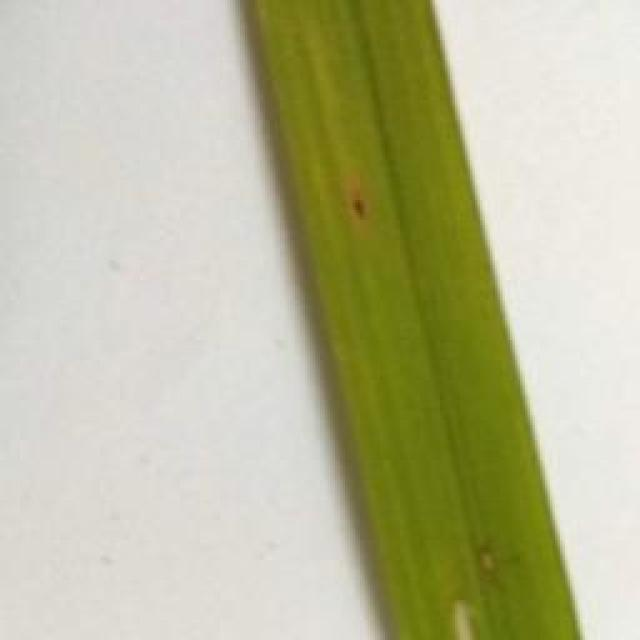Brown_Spot: (341, 179, 376, 226)
Rice_Blast: (434, 584, 492, 640), (469, 528, 503, 579)
